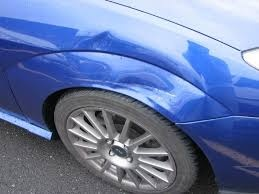Dent: (72, 26, 211, 115)
